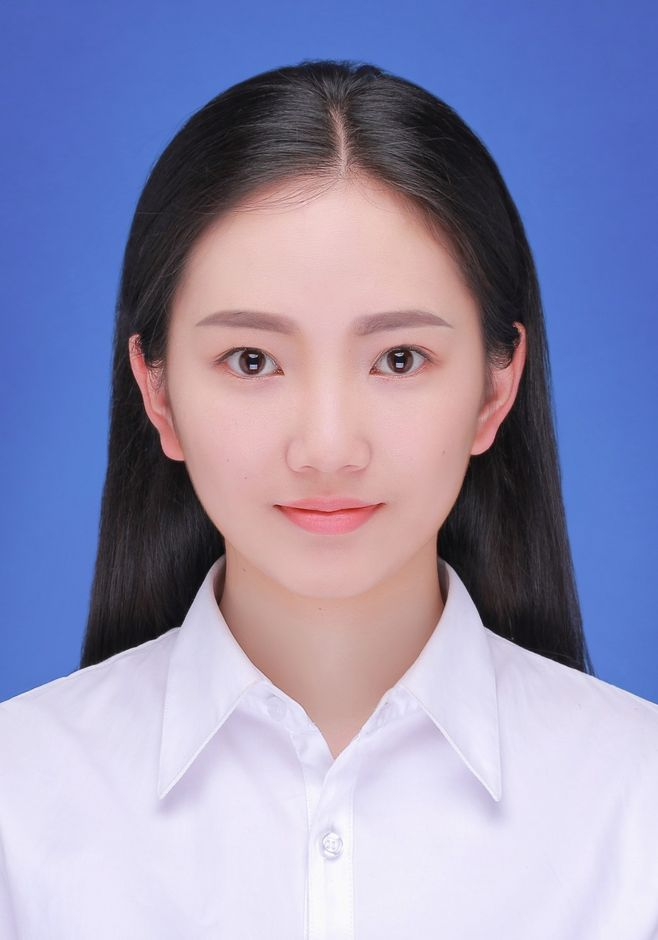unmask: (176, 241, 478, 587)
